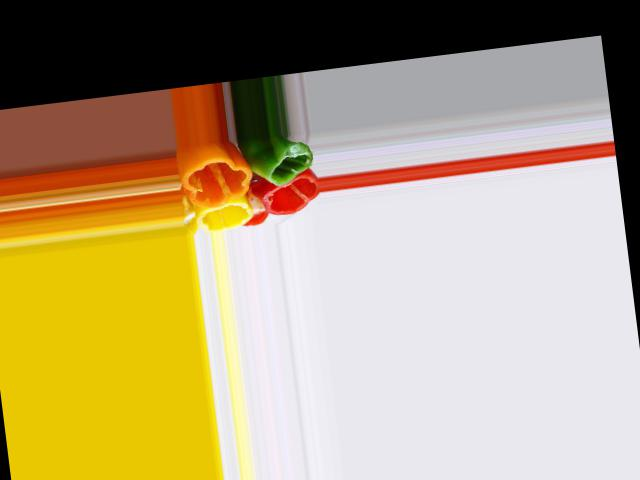bell_pepper: (259, 175, 319, 219)
